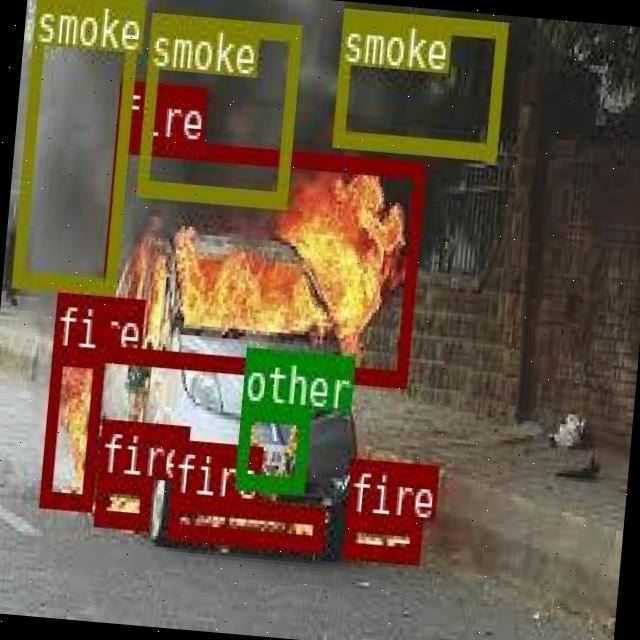fire: (96, 132, 422, 382), (38, 348, 102, 508), (165, 494, 322, 548), (342, 514, 420, 561), (94, 472, 150, 526)
smoke: (11, 0, 139, 290), (136, 9, 298, 203), (330, 8, 504, 158)
